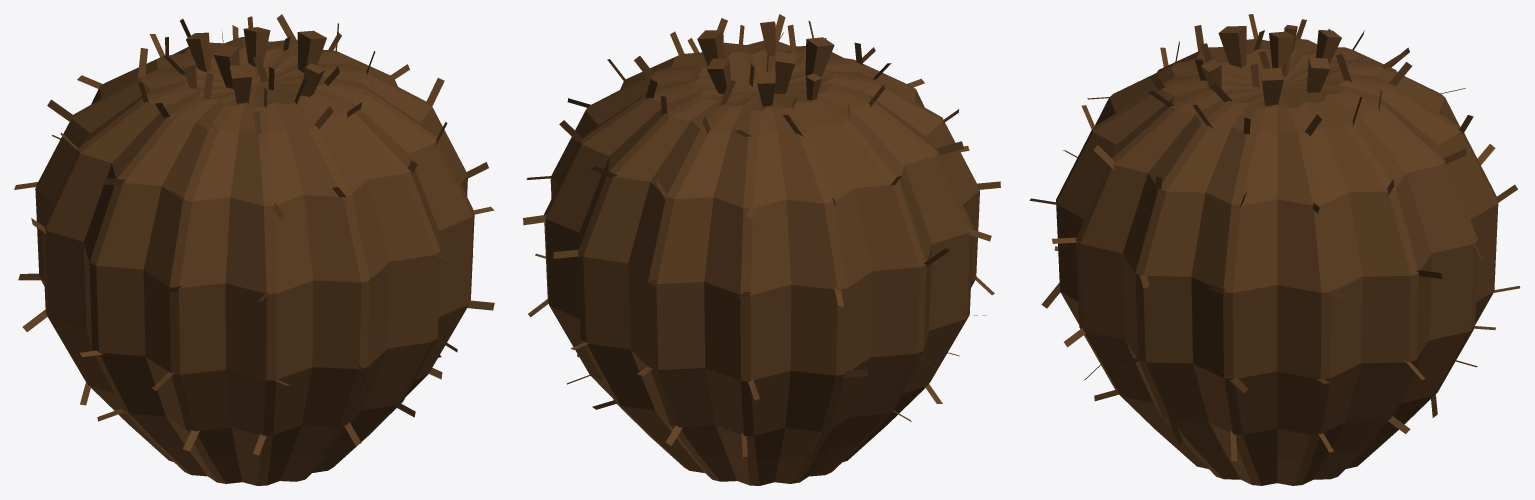
Rendered from SM_Succulent_Cactus_Round_Flowering_A.fbx.
3 views of the same model, side by side, from view 1: azimuth 30°, elevation 25°; view 2: azimuth 150°, elevation 25°; view 3: azimuth 270°, elevation 25° (orthographic).
Visible parts, largest first — view 1: succulent-cactus-round-flowering-a; view 2: succulent-cactus-round-flowering-a; view 3: succulent-cactus-round-flowering-a.
Part boxes in pixels (bbox=[...]): succulent-cactus-round-flowering-a: bbox=[14, 14, 494, 485]; succulent-cactus-round-flowering-a: bbox=[523, 14, 1000, 485]; succulent-cactus-round-flowering-a: bbox=[1029, 14, 1520, 485].
Bounding box in the file's own units: 0.8653 × 0.8135 × 0.8991.
